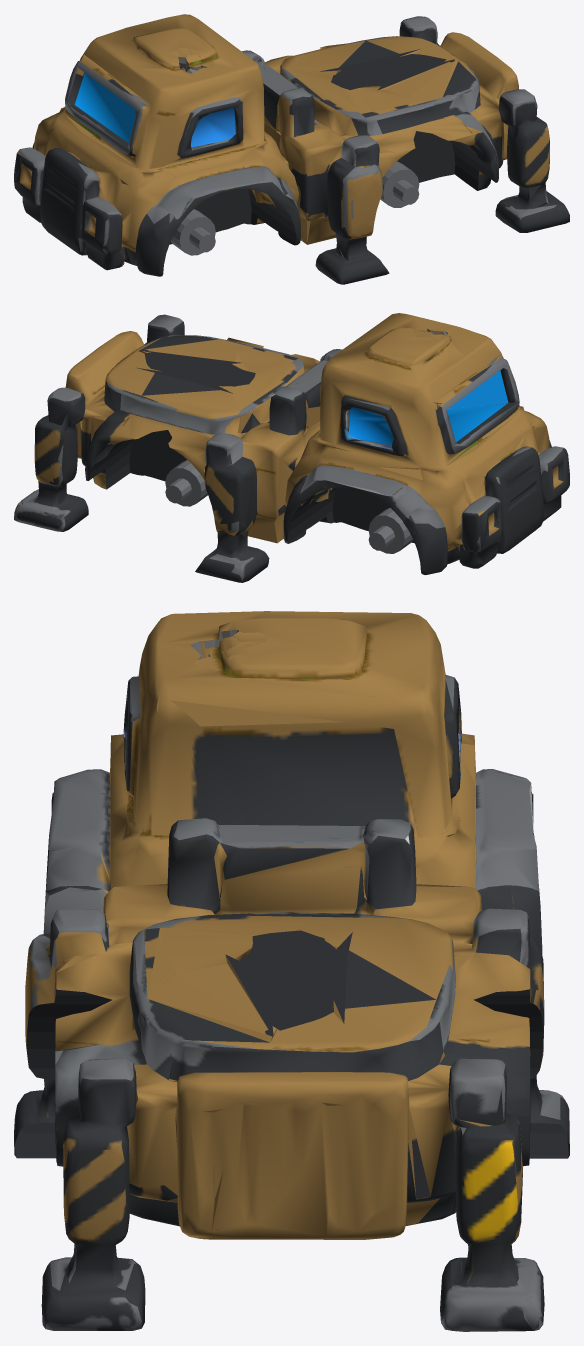
Rendered from OZ_CRANE_Wreck_V2.glb.
3 views of the same model, one above another, from view 1: azimuth 30°, elevation 25°; view 2: azimuth 150°, elevation 25°; view 3: azimuth 270°, elevation 25° (orthographic). The views are drawn at different scales.
Visible parts, largest first — view 1: Crane_Chassis_Wreck_V2; view 2: Crane_Chassis_Wreck_V2; view 3: Crane_Chassis_Wreck_V2.
Boxes of the visible parts, <box> form: Crane_Chassis_Wreck_V2: <box>14,14,569,284</box>; Crane_Chassis_Wreck_V2: <box>14,313,569,582</box>; Crane_Chassis_Wreck_V2: <box>14,611,569,1331</box>.
Bounding box in the file's own units: 1.69 × 0.7592 × 0.9749.
Materials: 3 (1 with a texture image).
